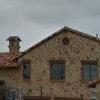Chimney: (5, 27, 22, 57)
